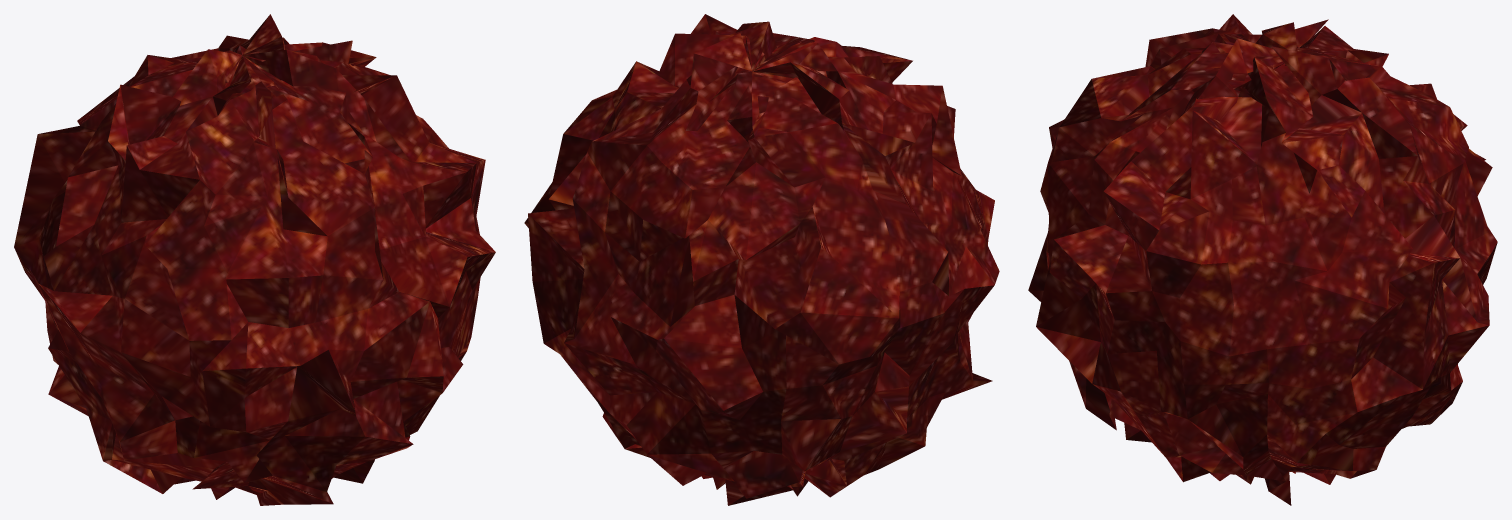
The model's file is kula_v3.fbx.
The picture shows the model from 3 angles, left to right: view 1: azimuth 30°, elevation 25°; view 2: azimuth 150°, elevation 25°; view 3: azimuth 270°, elevation 25°; orthographic projection.
Visible parts, largest first — view 1: Sphere; view 2: Sphere; view 3: Sphere.
Boxes of the visible parts, x1=… form: Sphere: x1=14, y1=14, x2=495, y2=505; Sphere: x1=524, y1=14, x2=999, y2=505; Sphere: x1=1028, y1=14, x2=1497, y2=505.
Bounding box in the file's own units: 209 × 227 × 212.
Materials: 1 (1 with a texture image).
